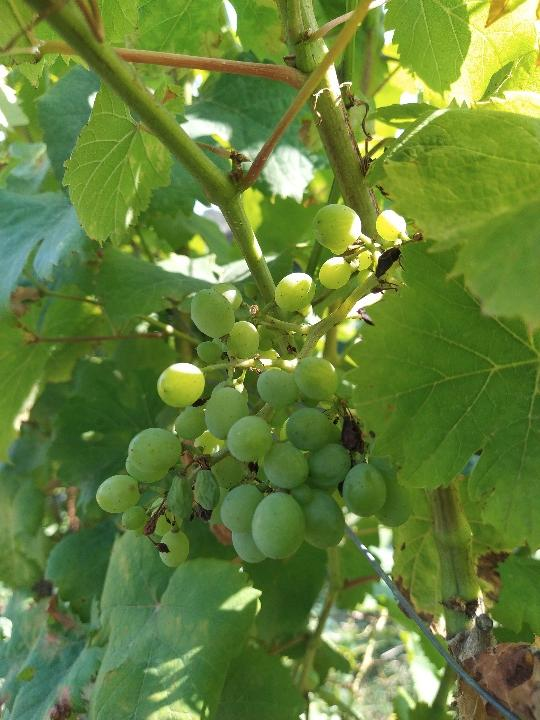grape: (94, 200, 409, 573)
